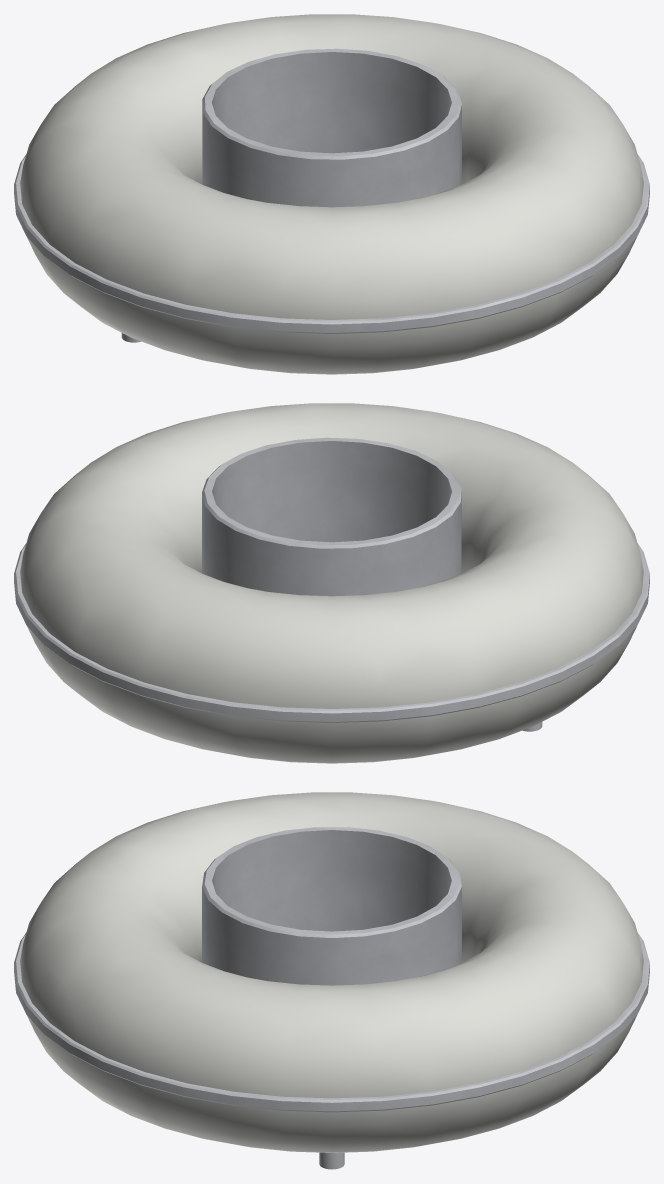
Rendered from ax_tank_08_toroidal_l.glb.
3 renders of one model, top to bottom at view 1: azimuth 30°, elevation 25°; view 2: azimuth 150°, elevation 25°; view 3: azimuth 270°, elevation 25°, orthographic.
Parts seen in each view (by area): view 1: torus_tank, inner_ring, girth_ring; view 2: torus_tank, inner_ring, girth_ring; view 3: torus_tank, inner_ring, girth_ring.
Part boxes in pixels (x1,y1,x2,y2): torus_tank: (20,14,643,374); inner_ring: (202,48,461,207); girth_ring: (14,154,649,333); torus_tank: (20,403,643,763); inner_ring: (202,437,461,596); girth_ring: (14,543,649,722); torus_tank: (20,792,643,1152); inner_ring: (202,827,461,985); girth_ring: (14,932,649,1112).
Bounding box in the file's own units: 3.77 × 1.22 × 3.77.
Materials: 3 (2 with a texture image).
